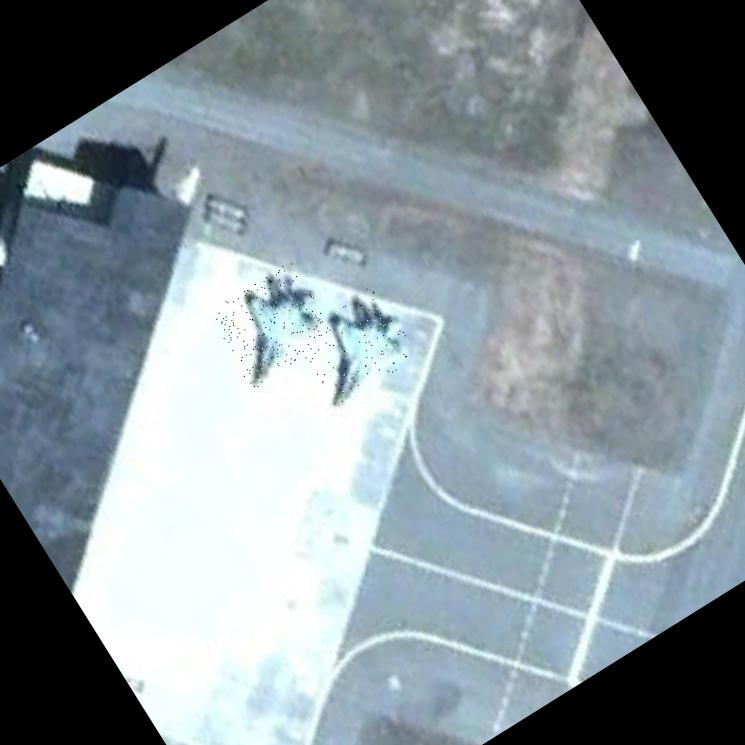A13: (204, 260, 337, 390), (290, 283, 418, 408)
